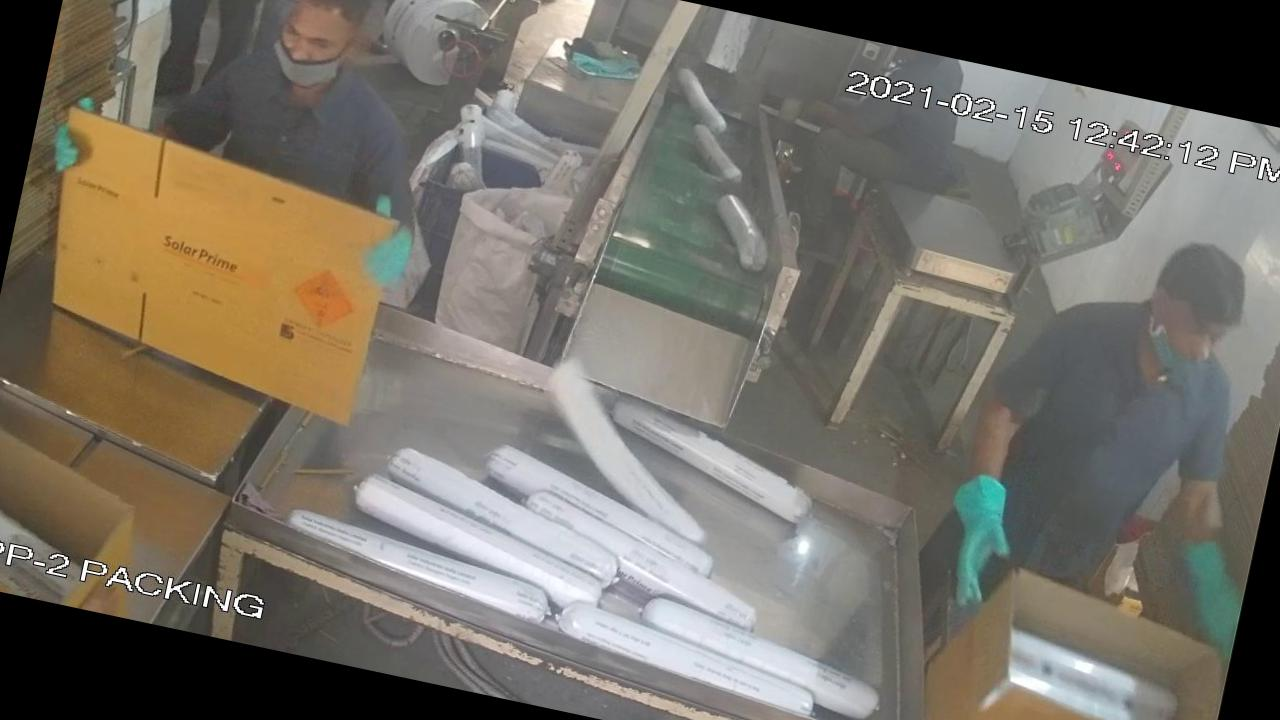Gloves: (930, 454, 1038, 612), (1152, 514, 1258, 664)
